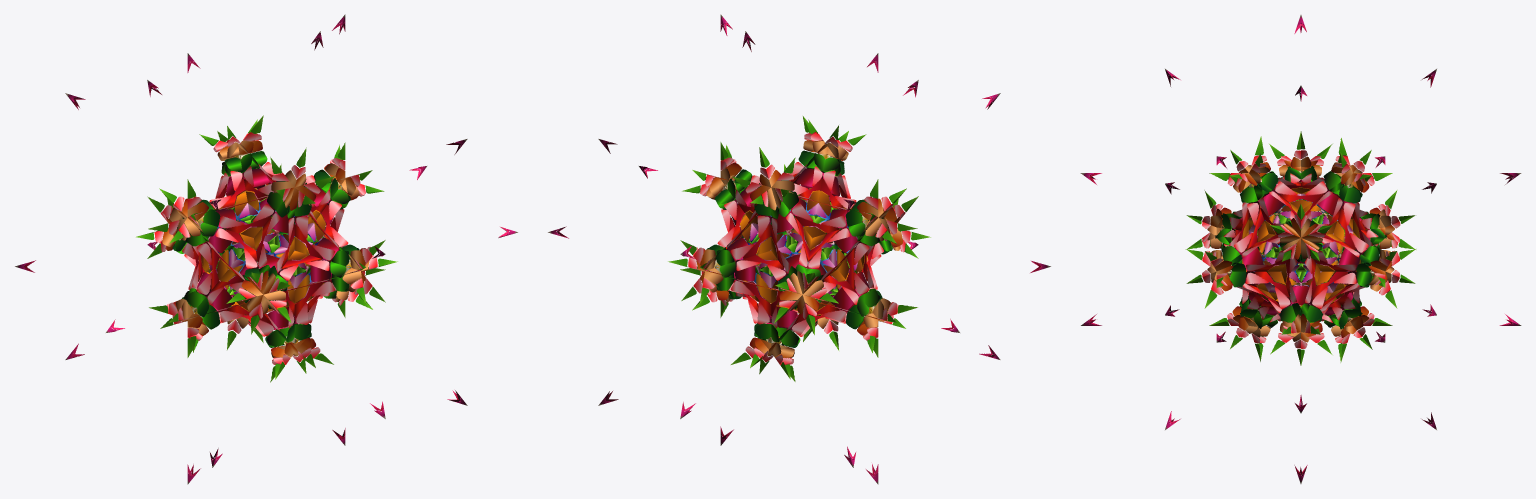
File: GreatStellatedDodecahedron.obj
3 views of the same model, side by side, from view 1: azimuth 30°, elevation 25°; view 2: azimuth 150°, elevation 25°; view 3: azimuth 270°, elevation 25° (orthographic). The views are drawn at different scales.
Bounding box in the file's own units: 1 × 1 × 1.
Materials: 1 (1 with a texture image).
